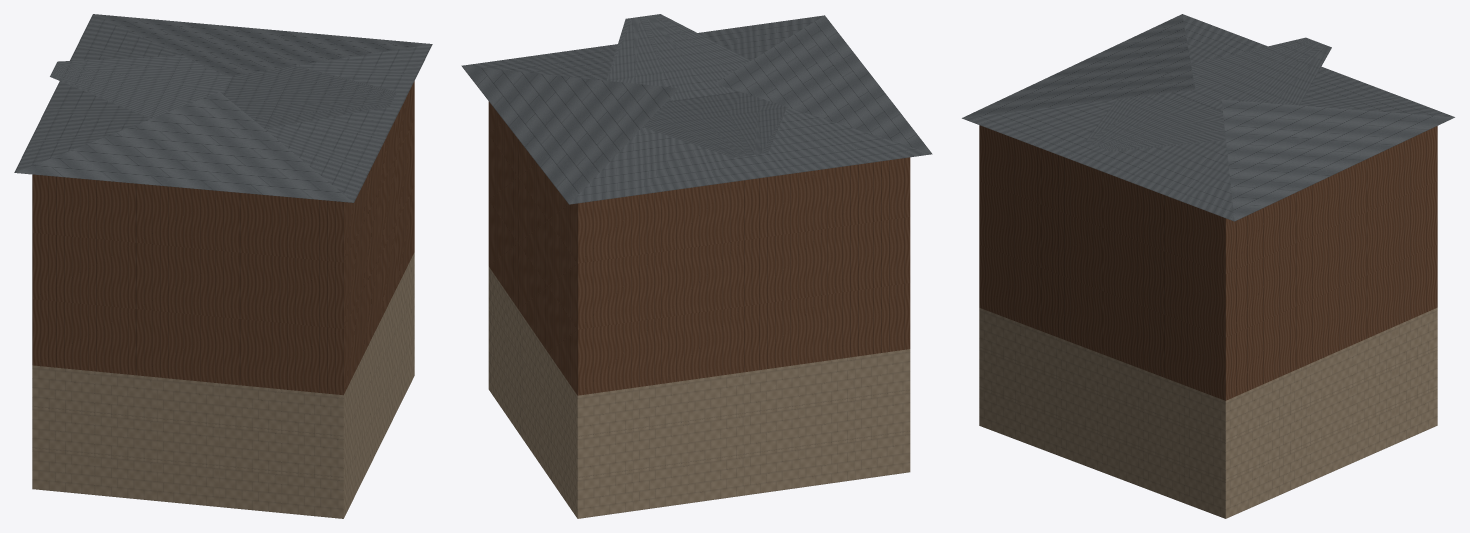
Rendered from bld_c13_35_417.gltf.
3 views of the same model, side by side, from view 1: azimuth 30°, elevation 25°; view 2: azimuth 150°, elevation 25°; view 3: azimuth 270°, elevation 25° (orthographic). The views are drawn at different scales.
Visible parts, largest first — view 1: bld_c13_35_417; view 2: bld_c13_35_417; view 3: bld_c13_35_417.
Part boxes in pixels (box(x1,y1,x2,y2)): bld_c13_35_417: box(14, 14, 432, 518); bld_c13_35_417: box(461, 14, 932, 518); bld_c13_35_417: box(962, 14, 1454, 518).
Bounding box in the file's own units: 19.23 × 14.3 × 19.34.
3 materials, 3 textured.
